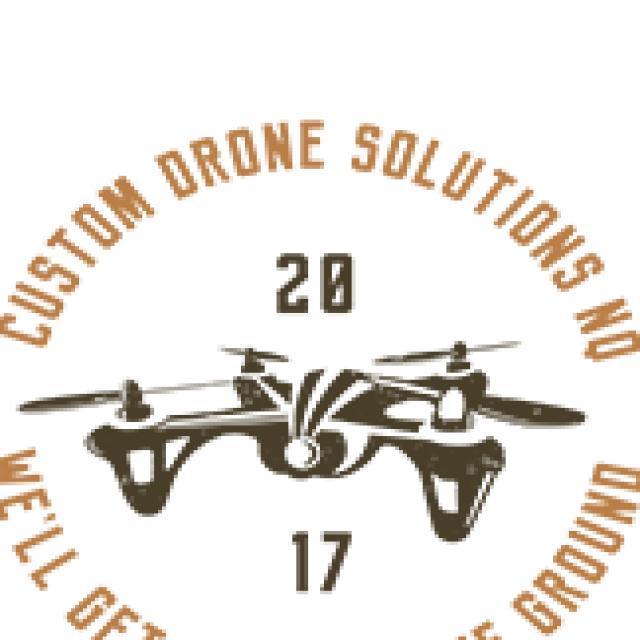drone: (28, 338, 616, 552)
